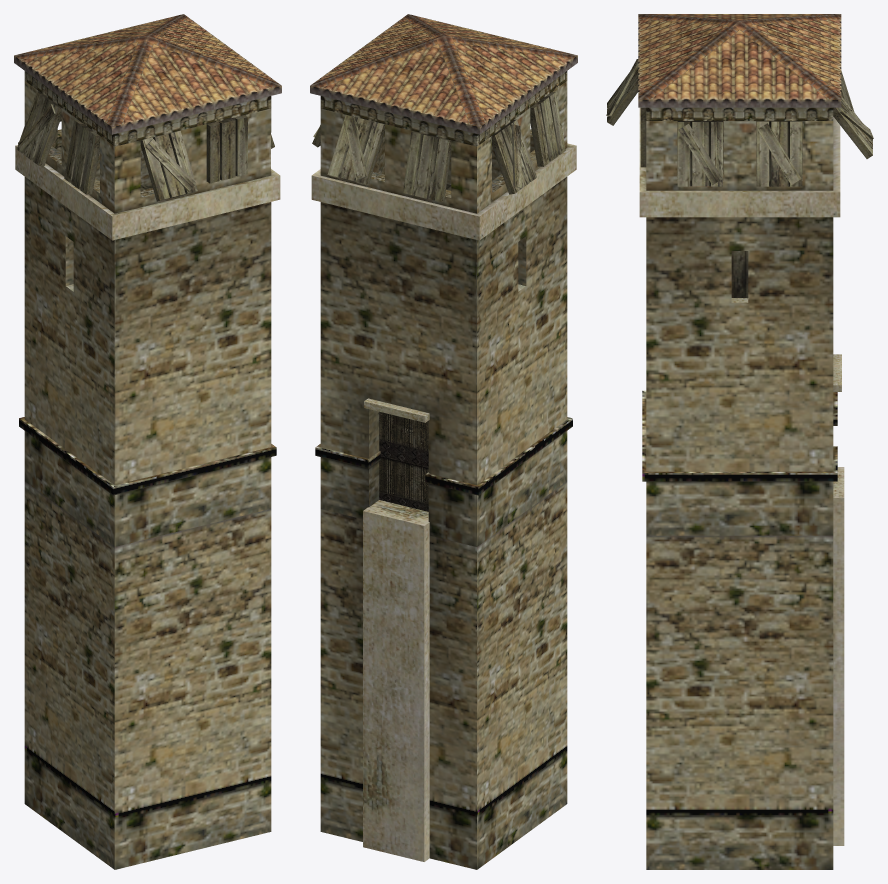
Rendered from tower.glb.
The picture shows the model from 3 angles, left to right: view 1: azimuth 30°, elevation 25°; view 2: azimuth 150°, elevation 25°; view 3: azimuth 270°, elevation 25°; orthographic projection. The views are drawn at different scales.
Parts seen in each view (by area): view 1: tower_part0; view 2: tower_part0, tower_part2; view 3: tower_part0.
Part boxes in pixels (x1=…): tower_part0: x1=14, y1=14, x2=281, y2=869; tower_part0: x1=310, y1=14, x2=577, y2=869; tower_part2: x1=379, y1=411, x2=428, y2=511; tower_part0: x1=606, y1=14, x2=873, y2=869.
Size of the model in its own units: 2.02 by 7.34 by 2.2.
3 materials, 3 textured.
